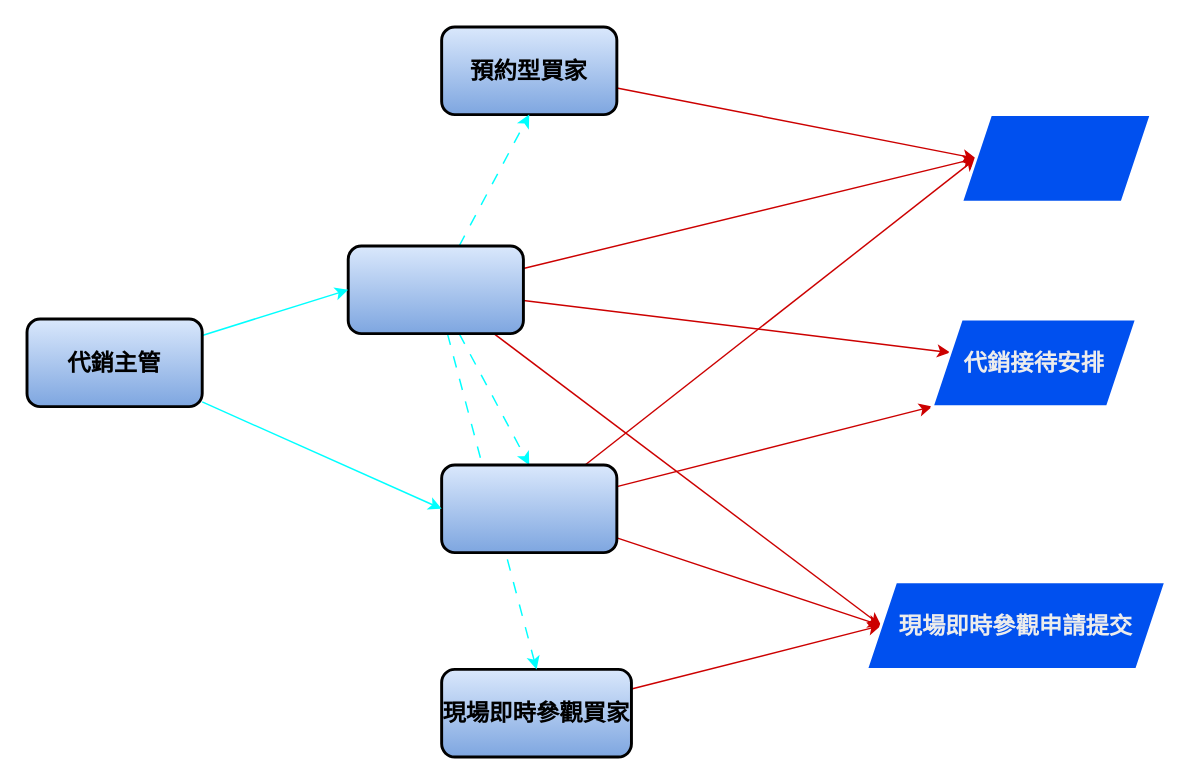
Image size: 1191x783. Some labels were removed from this diagram. The centre of each missing label's shape, as x and y in pixels:
代銷接待人員: (435,289)
代銷管理者: (528,508)
預約申請提交: (1055,157)
